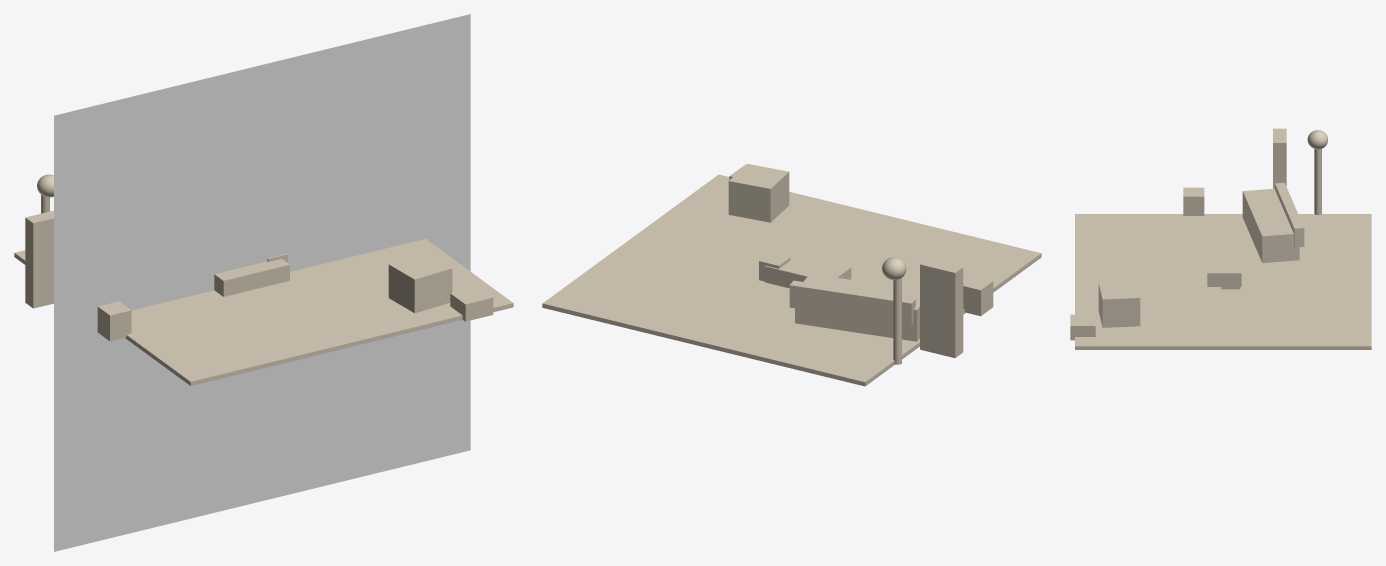
File: scandi-living-room.glb
3 views of the same model, side by side, from view 1: azimuth 30°, elevation 25°; view 2: azimuth 150°, elevation 25°; view 3: azimuth 270°, elevation 25° (orthographic). The views are drawn at different scales.
Visible parts, largest first — view 1: object 1, cube-1, cube-7, cube-10, cube-4, cube-9, cube-8; view 2: cube-1, cube-10, cube-3, cube-2, cube-7, cube-4, cube-9, cylinder-5; view 3: cube-1, cube-2, cube-7, cube-4, cube-3, cube-10, cube-9, cube-8, cylinder-5, cube-12.
Boxes of the visible parts, bbox=[...] form: object 1: bbox=[54, 14, 470, 551]; cube-1: bbox=[14, 239, 513, 385]; cube-7: bbox=[388, 253, 452, 313]; cube-10: bbox=[25, 210, 53, 308]; cube-4: bbox=[214, 259, 289, 296]; cube-9: bbox=[97, 301, 131, 341]; cube-8: bbox=[450, 287, 493, 321]; cube-1: bbox=[542, 174, 1041, 386]; cube-10: bbox=[920, 258, 963, 357]; cube-3: bbox=[789, 280, 915, 325]; cube-2: bbox=[795, 273, 919, 341]; cube-7: bbox=[728, 164, 789, 222]; cube-4: bbox=[764, 251, 851, 288]; cube-9: bbox=[963, 276, 993, 316]; cylinder-5: bbox=[893, 278, 901, 364]; cube-1: bbox=[1075, 214, 1371, 349]; cube-2: bbox=[1242, 188, 1299, 262]; cube-7: bbox=[1098, 281, 1140, 327]; cube-4: bbox=[1207, 246, 1241, 286]; cube-3: bbox=[1275, 182, 1304, 247]; cube-10: bbox=[1273, 128, 1286, 188]; cube-9: bbox=[1183, 187, 1204, 215]; cube-8: bbox=[1070, 314, 1095, 340]; cylinder-5: bbox=[1314, 148, 1321, 214]; cube-12: bbox=[1221, 265, 1240, 289].
Bounding box in the file's own units: 10 × 10 × 7.44.
